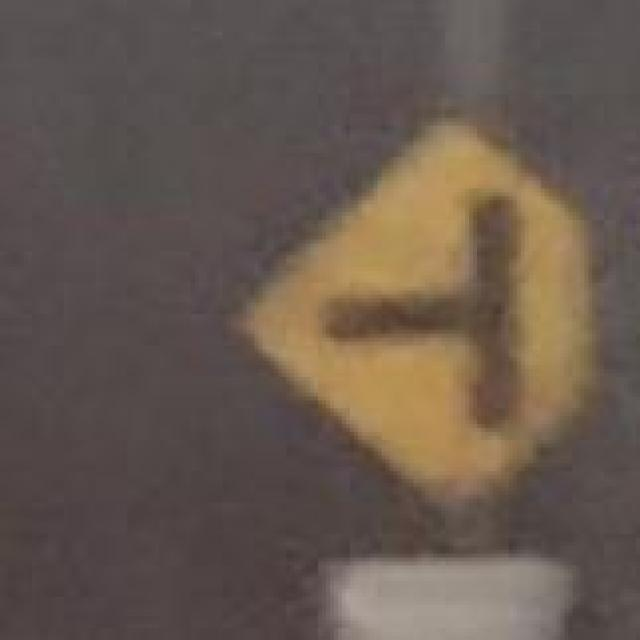traffic sign: (263, 130, 601, 518)
